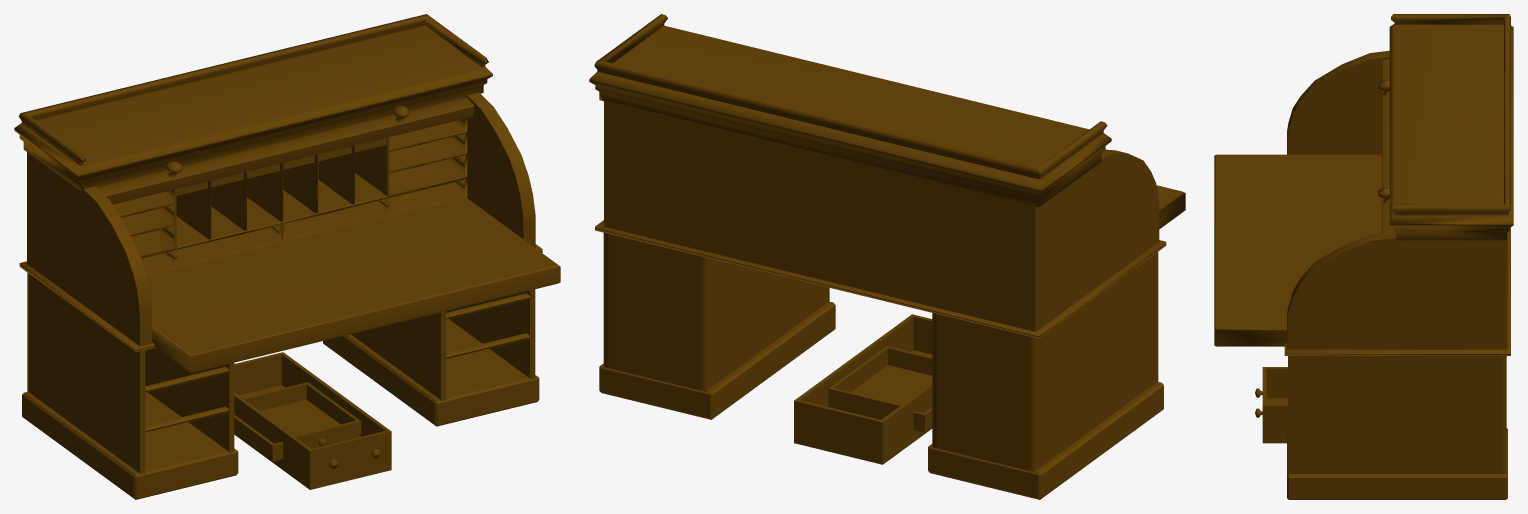
File: Desk.fbx
The picture shows the model from 3 angles, left to right: view 1: azimuth 30°, elevation 25°; view 2: azimuth 150°, elevation 25°; view 3: azimuth 270°, elevation 25°; orthographic projection. The views are drawn at different scales.
Parts seen in each view (by area): view 1: Desk, Drawer_3, Drawer_6, Drawer_1, Drawer_4, Drawer_7, Drawer_2; view 2: Desk, Drawer_3, Drawer_6, Drawer_7, Drawer_4, Drawer_1, Drawer_2; view 3: Desk, Drawer_3, Drawer_4.
Boxes of the visible parts, <box> form: Desk: <box>14,14,560,499</box>; Drawer_3: <box>234,352,391,489</box>; Drawer_6: <box>249,387,361,446</box>; Drawer_1: <box>247,387,348,461</box>; Drawer_4: <box>234,367,391,488</box>; Drawer_7: <box>242,382,361,443</box>; Drawer_2: <box>234,399,360,460</box>; Desk: <box>589,14,1185,499</box>; Drawer_3: <box>794,314,932,464</box>; Drawer_6: <box>828,352,932,419</box>; Drawer_7: <box>828,346,932,416</box>; Drawer_4: <box>794,317,932,435</box>; Drawer_1: <box>828,351,932,418</box>; Drawer_2: <box>829,352,932,432</box>; Desk: <box>1214,14,1513,499</box>; Drawer_3: <box>1255,367,1287,426</box>; Drawer_4: <box>1255,368,1287,443</box>.
Bounding box in the file's own units: 6.68 × 4.98 × 4.3.
